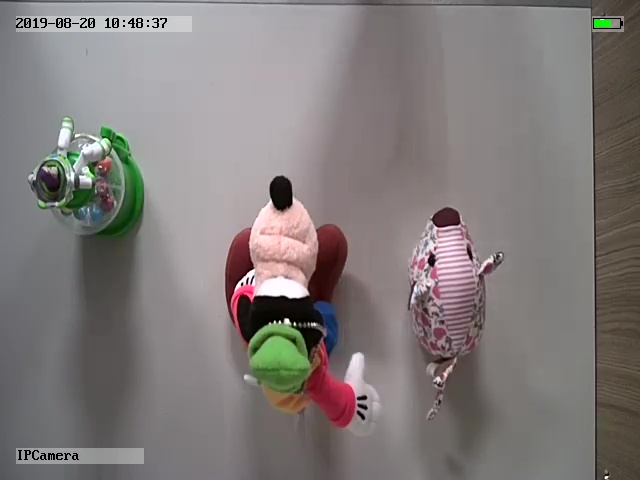buzz: (27, 116, 146, 240)
goofy: (222, 176, 385, 440)
pig: (403, 205, 505, 423)
